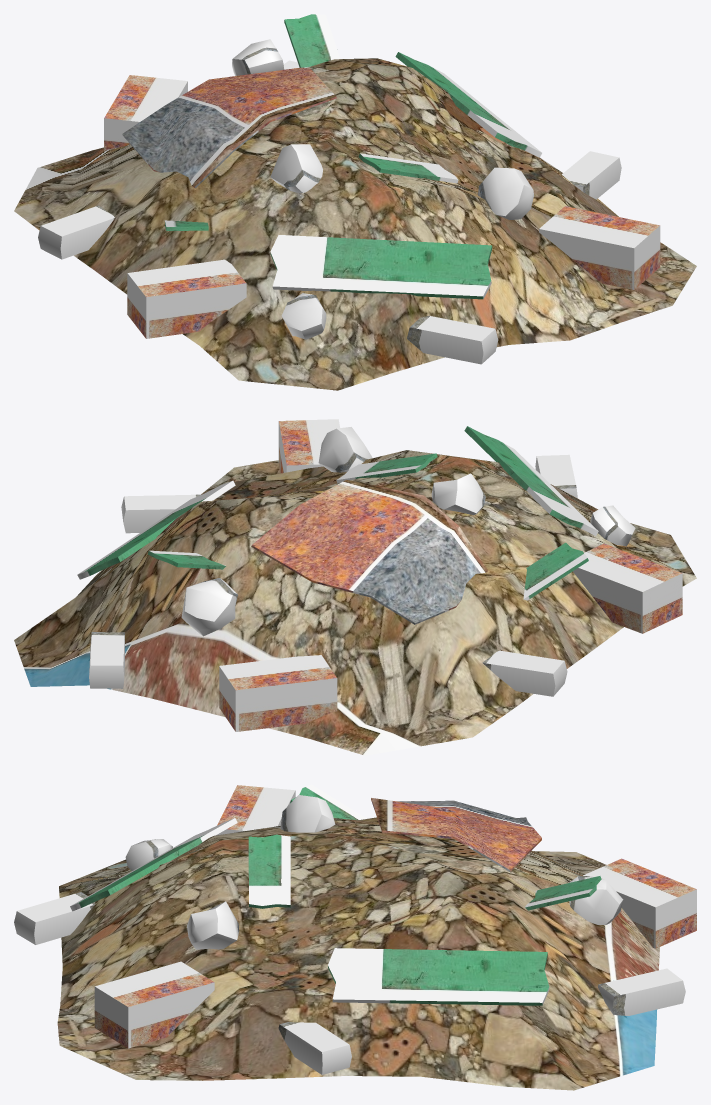
File: smece_1.fbx
The picture shows the model from 3 angles, top to bottom: view 1: azimuth 30°, elevation 25°; view 2: azimuth 150°, elevation 25°; view 3: azimuth 270°, elevation 25°; orthographic projection.
Visible parts, largest first — view 1: Plane.005; view 2: Plane.005; view 3: Plane.005.
Boxes of the visible parts, x1,y1,x2,y2 form: Plane.005: [14, 14, 696, 390]; Plane.005: [14, 419, 696, 755]; Plane.005: [14, 784, 696, 1090].
Bounding box in the file's own units: 367 × 102 × 422.
1 material, 1 textured.
